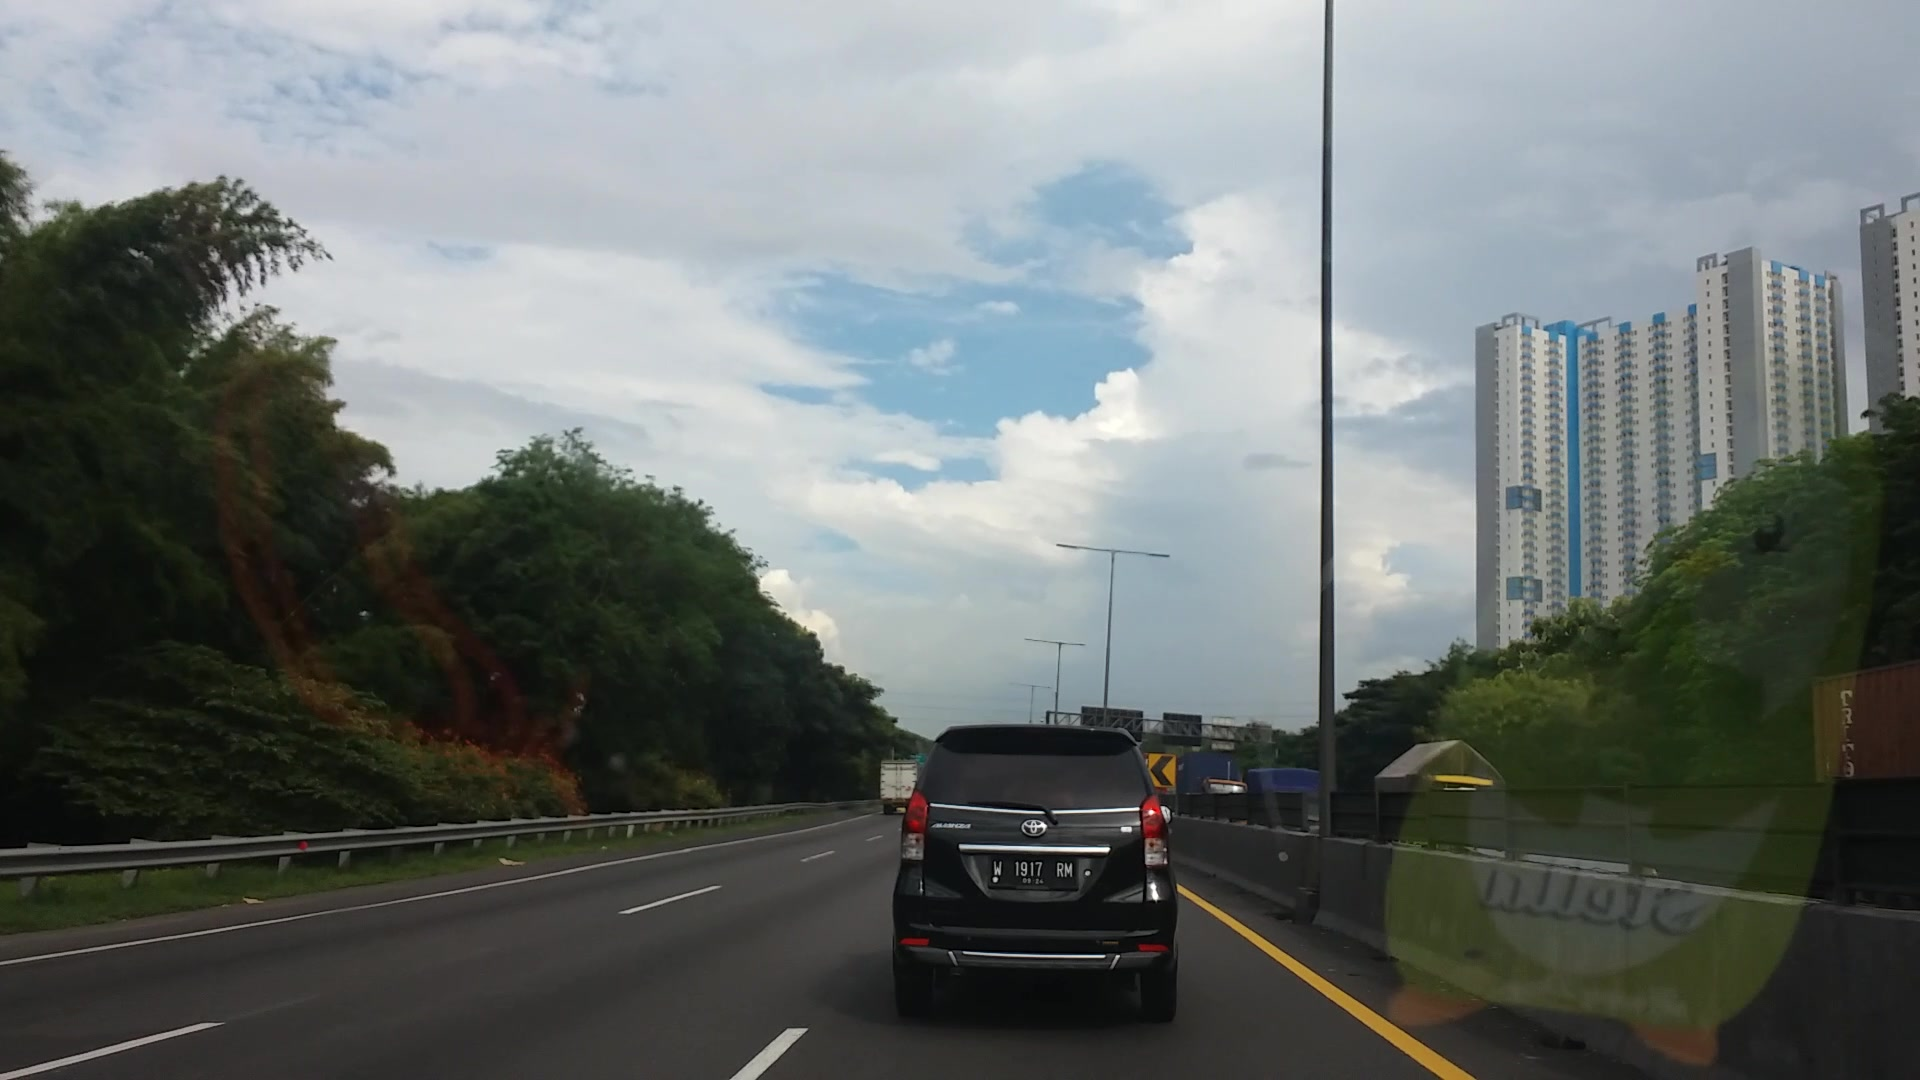plate_positive: (989, 856, 1075, 887)
